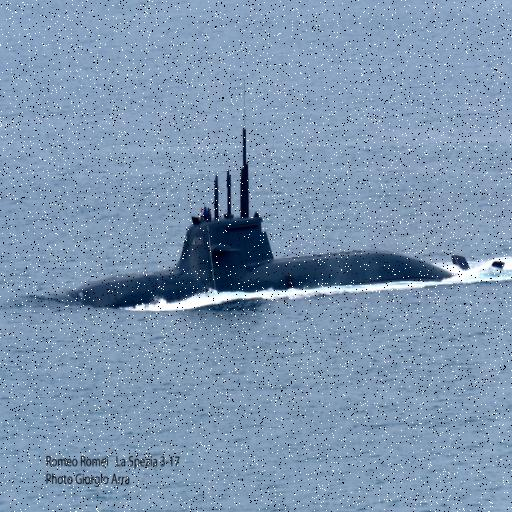submarine: (48, 115, 512, 327)
